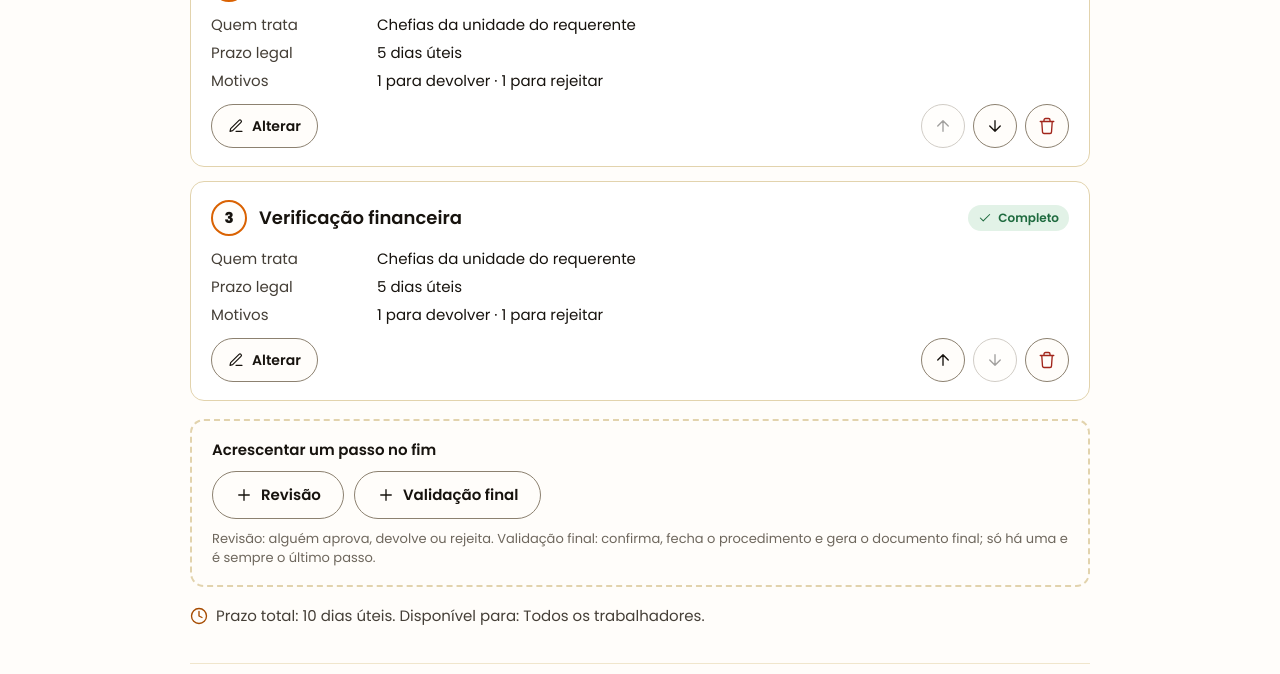
Test: creating a workflow › moves and removes review steps, and keeps one final validation, last
(page scrolled)
Expected: the button named "Mover «Validação da chefia» para cima" is disabled, [921,104,965,148]
Click the button named "Mover «Verificação financeira» para cima": (943, 360) [921,338,965,382]
(page scrolled)
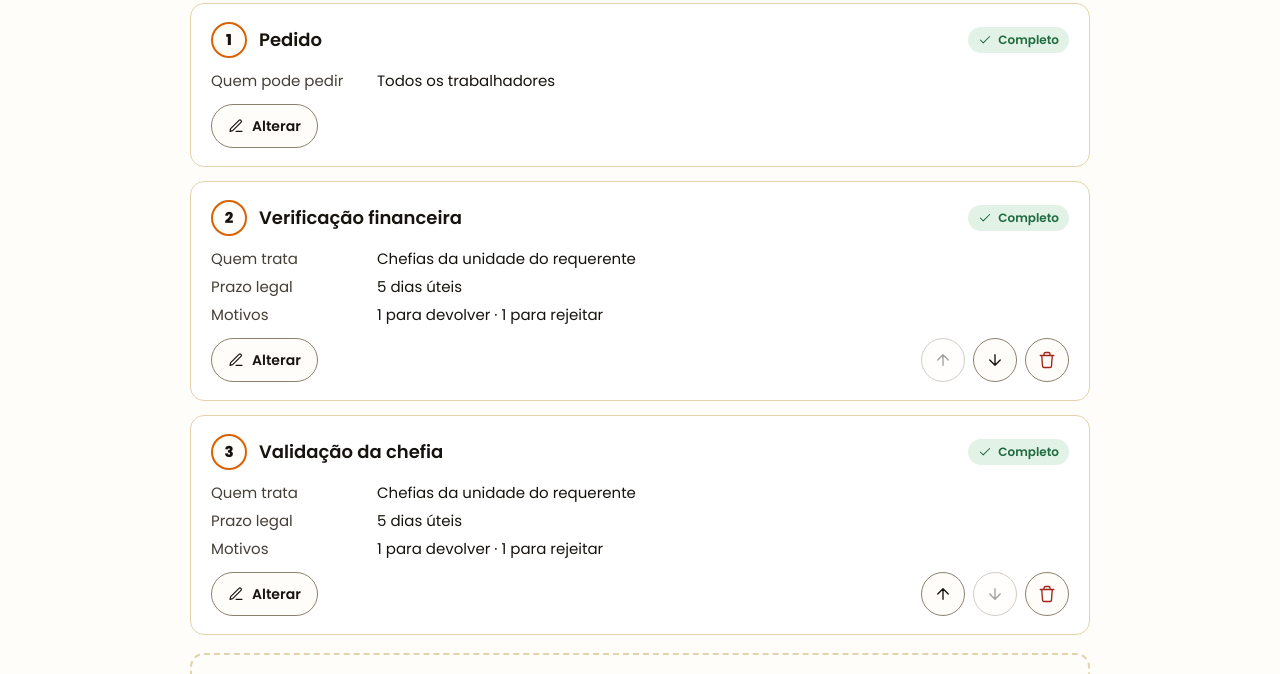
Click the button named "Mover «Verificação financeira» para baixo": (995, 360) [973,338,1017,382]
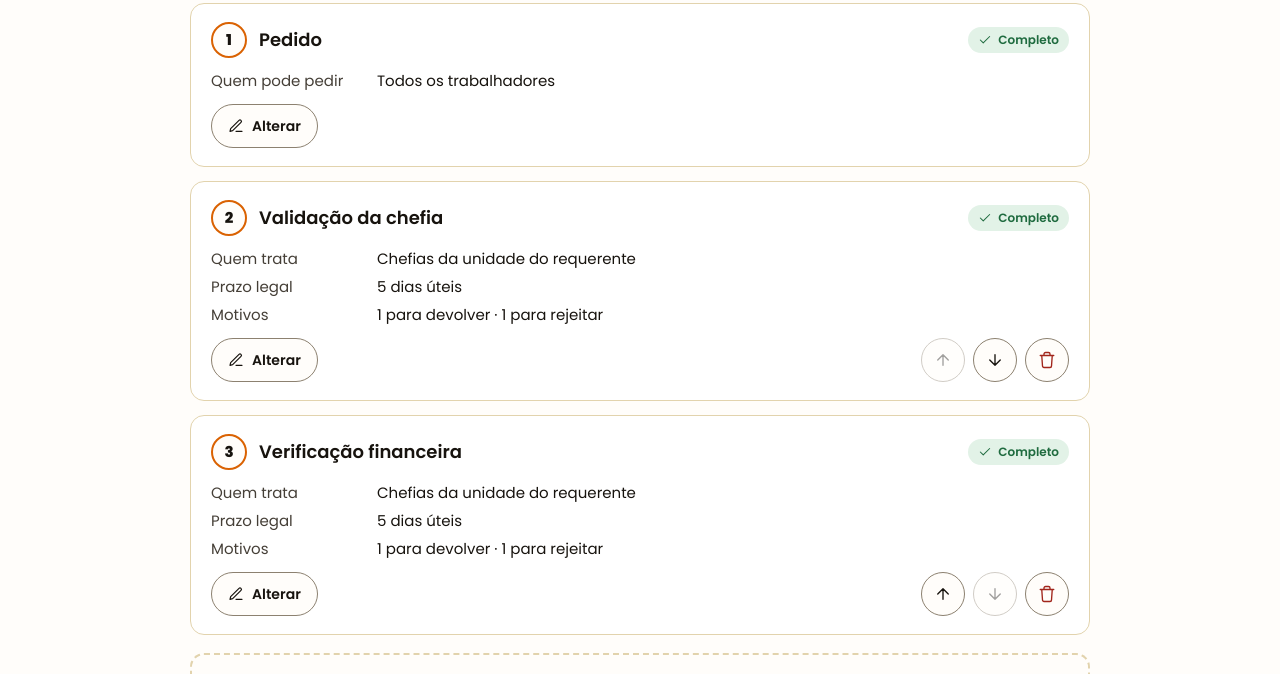
Click the button named "Remover o passo «Verificação financeira»": (1047, 594) [1025,572,1069,616]
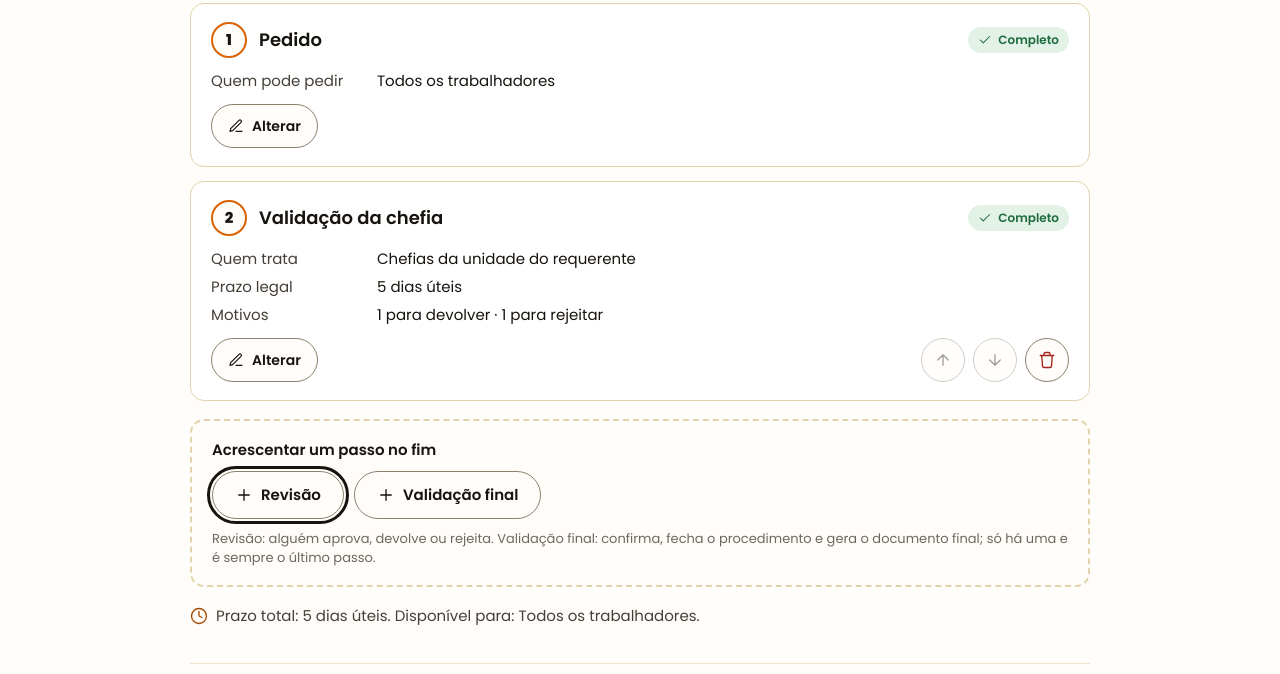
Click the button "Validação final": (448, 495) [354,471,542,519]
(page scrolled)
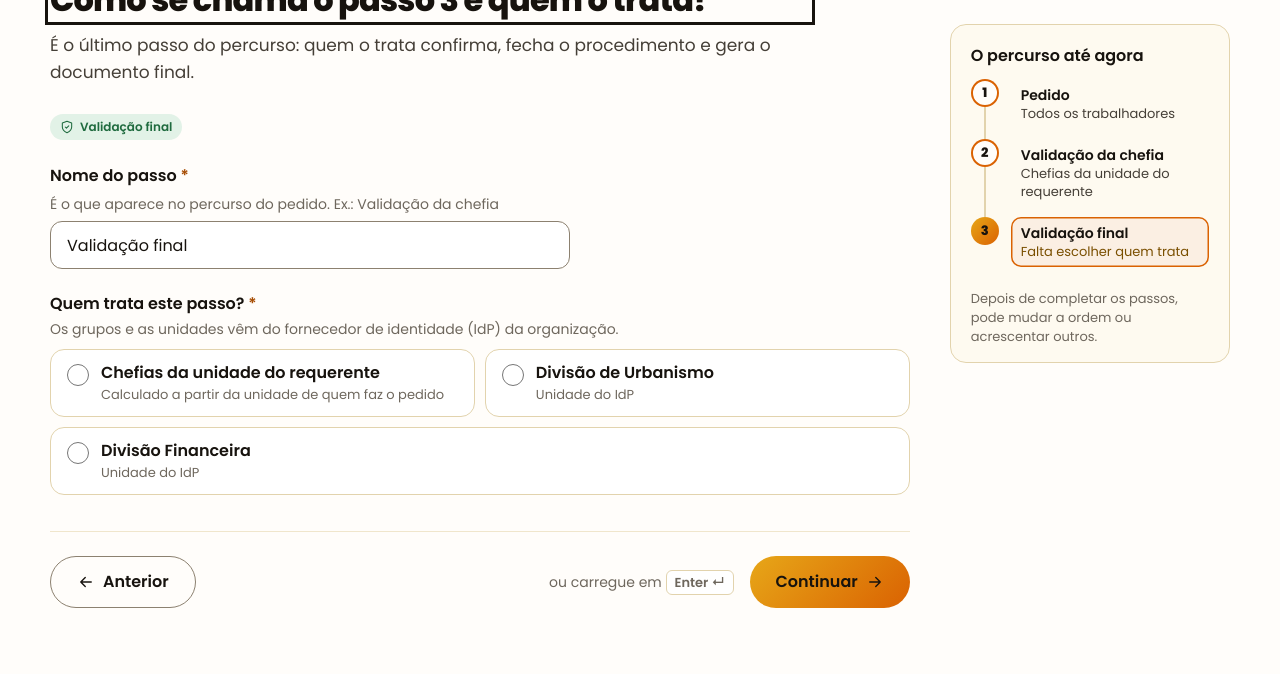
Expected: the list item "3 Validação final Falta escolher quem trata" is shown, [971,217,1209,277]
Click the button "Anterior": (123, 582) [50,556,196,608]
(page scrolled)
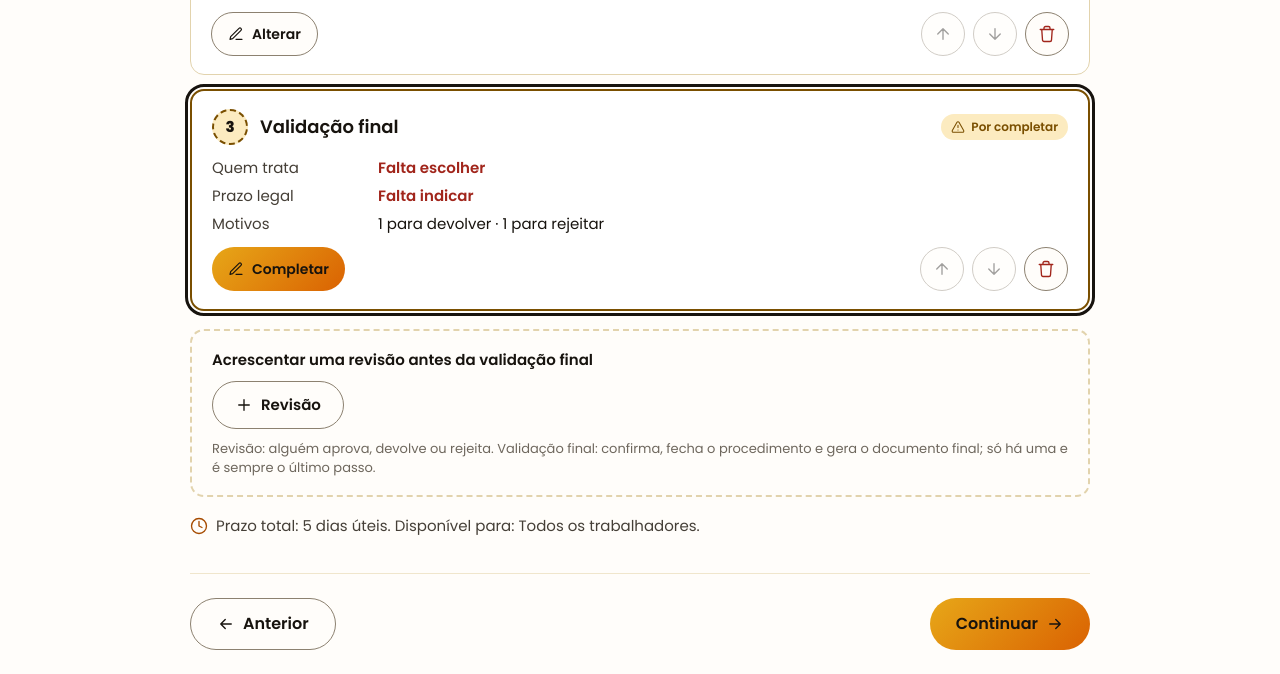
Expected: the text "Acrescentar uma revisão antes da validação final" is shown, [212,349,593,370]
